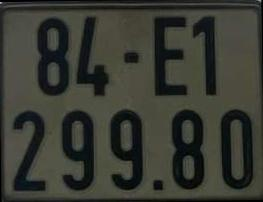-: (124, 51, 140, 62)
0: (222, 110, 253, 188)
1: (193, 15, 216, 96)
2: (14, 110, 46, 192)
4: (77, 16, 109, 94)
8: (171, 109, 206, 189), (36, 18, 69, 95)
9: (111, 110, 143, 189), (63, 110, 94, 190)
E: (153, 15, 186, 96)
